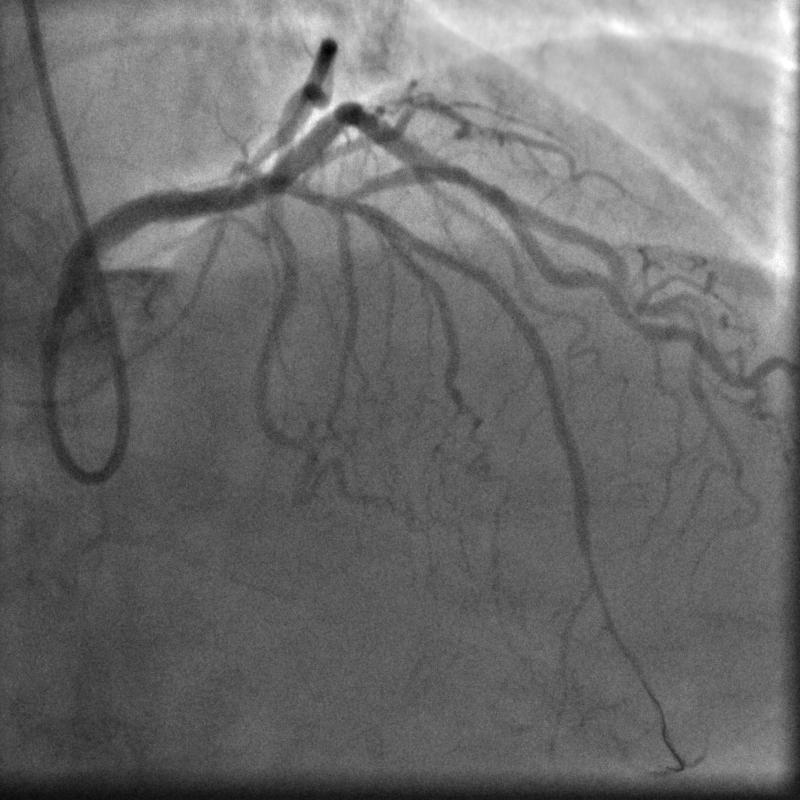Stenosis: (460, 161, 498, 205)
